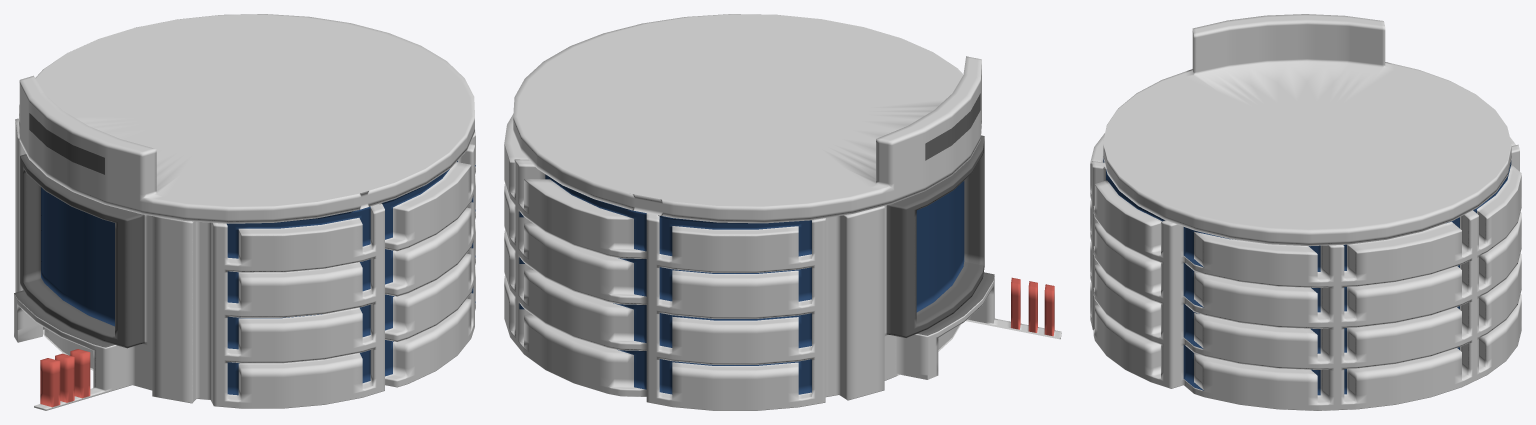
File: round.fbx
3 views of the same model, side by side, from view 1: azimuth 30°, elevation 25°; view 2: azimuth 150°, elevation 25°; view 3: azimuth 270°, elevation 25° (orthographic). The views are drawn at different scales.
Parts seen in each view (by area): view 1: Cylinder; view 2: Cylinder; view 3: Cylinder.
Part boxes in pixels (x1,y1,x2,y2): Cylinder: (14, 14, 475, 410); Cylinder: (504, 14, 1061, 410); Cylinder: (1090, 14, 1521, 410).
Bounding box in the file's own units: 18.33 × 9.16 × 16.35.
